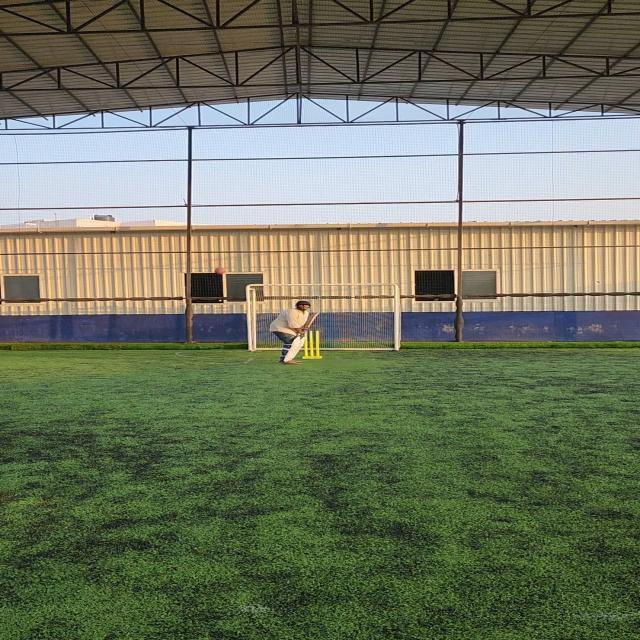ball: (212, 266, 228, 275)
stump: (302, 331, 323, 359)
